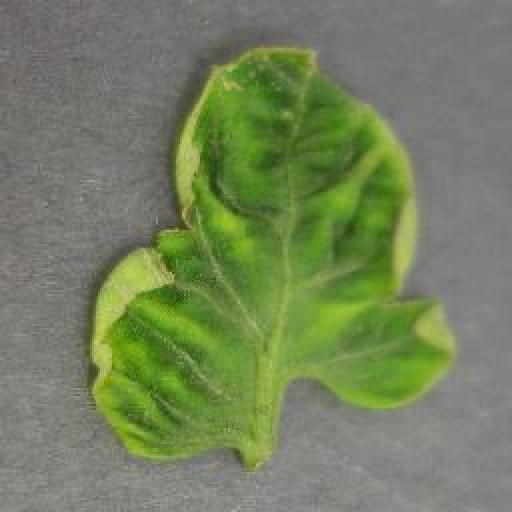Yellow Leaf Curl Virus: (86, 43, 459, 460)
